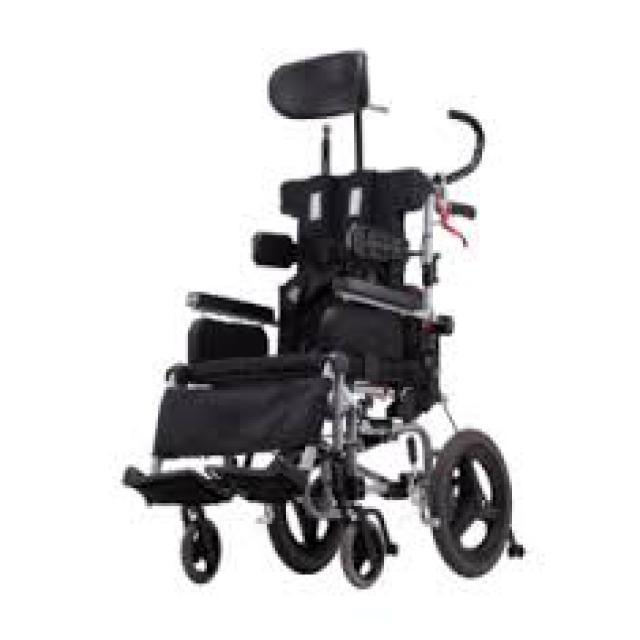wheelchairs: (125, 46, 528, 590)
